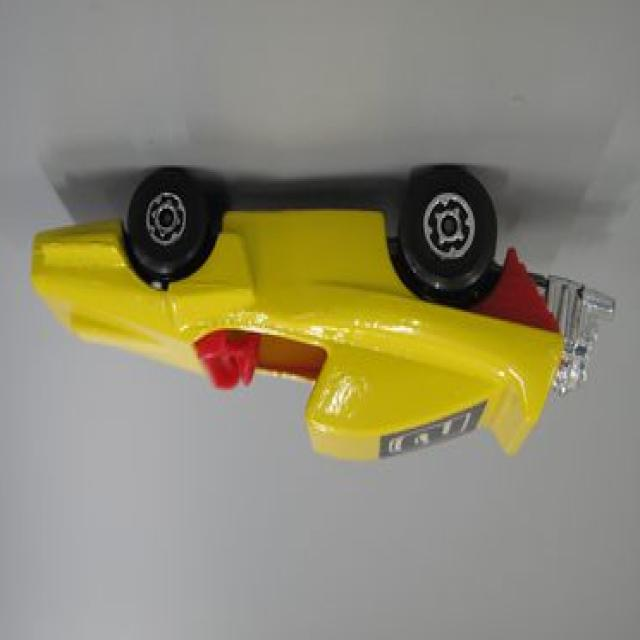Car: (31, 165, 616, 464)
